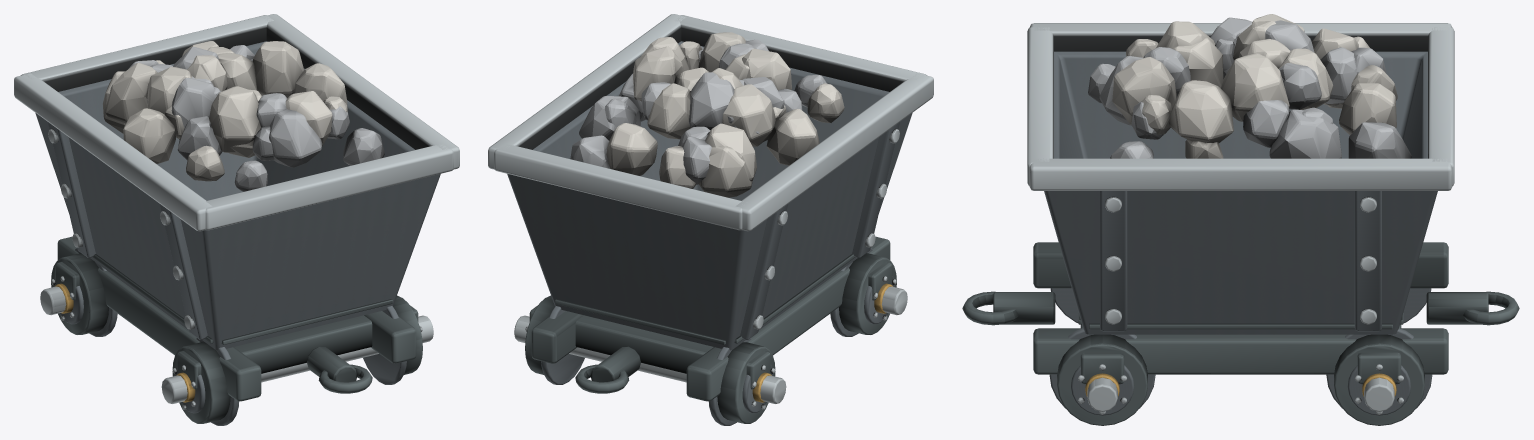
File: OreCart.fbx
The picture shows the model from 3 angles, left to right: view 1: azimuth 30°, elevation 25°; view 2: azimuth 150°, elevation 25°; view 3: azimuth 270°, elevation 25°; orthographic projection. The views are drawn at different scales.
Visible parts, largest first — view 1: OreCart_Steel, OreCart_WornSteel, OreCart_OreLight, OreCart_BlackIron, OreCart_Ore, Wheel_FrontL, Wheel_RearL, Wheel_FrontR; view 2: OreCart_Steel, OreCart_WornSteel, OreCart_OreLight, OreCart_BlackIron, OreCart_Ore, Wheel_RearL, Wheel_FrontL, Wheel_RearR; view 3: OreCart_Steel, OreCart_WornSteel, OreCart_BlackIron, OreCart_OreLight, OreCart_Ore, Wheel_FrontR, Wheel_RearR, Wheel_FrontL, Wheel_RearL.
Boxes of the visible parts, x1=… form: OreCart_Steel: x1=35, y1=41, x2=440, y2=350; OreCart_WornSteel: x1=14, y1=14, x2=459, y2=403; OreCart_OreLight: x1=103, y1=41, x2=347, y2=181; OreCart_BlackIron: x1=55, y1=236, x2=418, y2=401; OreCart_Ore: x1=128, y1=45, x2=384, y2=191; Wheel_FrontL: x1=172, y1=338, x2=239, y2=425; Wheel_RearL: x1=51, y1=248, x2=117, y2=336; Wheel_FrontR: x1=363, y1=295, x2=422, y2=384; OreCart_Steel: x1=507, y1=41, x2=912, y2=350; OreCart_WornSteel: x1=488, y1=14, x2=933, y2=403; OreCart_OreLight: x1=606, y1=32, x2=844, y2=197; OreCart_BlackIron: x1=529, y1=236, x2=892, y2=401; OreCart_Ore: x1=570, y1=39, x2=826, y2=184; Wheel_RearL: x1=708, y1=338, x2=775, y2=425; Wheel_FrontL: x1=830, y1=248, x2=896, y2=336; Wheel_RearR: x1=525, y1=295, x2=584, y2=384; OreCart_Steel: x1=1044, y1=51, x2=1437, y2=334; OreCart_WornSteel: x1=1027, y1=23, x2=1454, y2=411; OreCart_BlackIron: x1=962, y1=242, x2=1519, y2=384; OreCart_OreLight: x1=1112, y1=14, x2=1397, y2=158; OreCart_Ore: x1=1088, y1=17, x2=1411, y2=158; Wheel_FrontR: x1=1049, y1=328, x2=1155, y2=425; Wheel_RearR: x1=1326, y1=328, x2=1432, y2=425; Wheel_FrontL: x1=1050, y1=288, x2=1078, y2=323; Wheel_RearL: x1=1403, y1=288, x2=1431, y2=323.
Bounding box in the file's own units: 0.952 × 1.03 × 1.53.
Materials: 6 (1 with a texture image).
